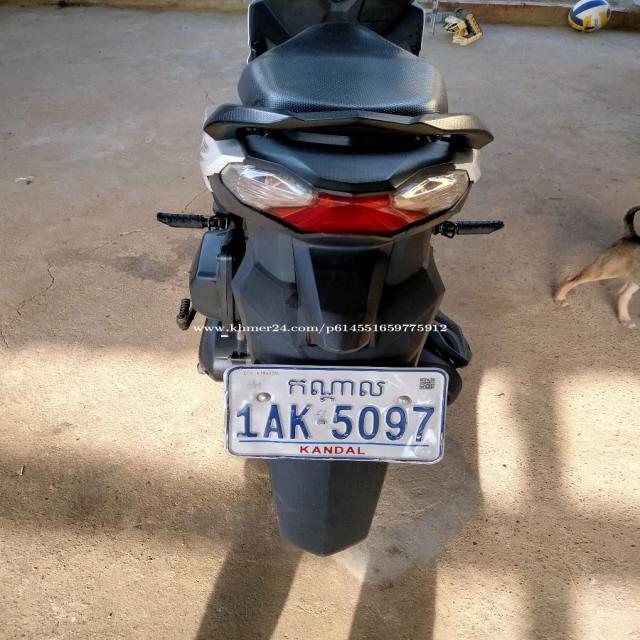Kandal: (288, 380, 385, 402)
